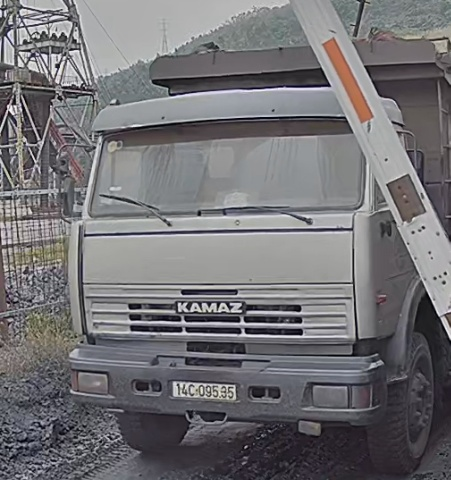vehicle plate: (169, 376, 238, 403)
